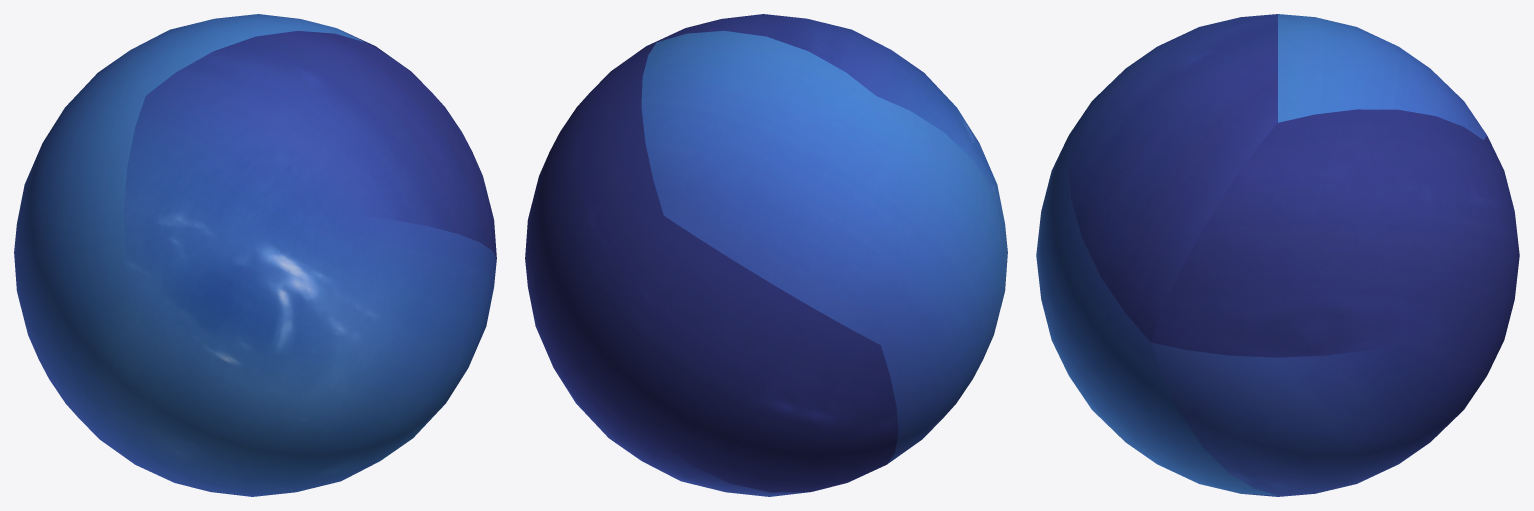
File: neptune.glb
3 renders of one model, left to right at view 1: azimuth 30°, elevation 25°; view 2: azimuth 150°, elevation 25°; view 3: azimuth 270°, elevation 25°, orthographic.
Visible parts, largest first — view 1: Sphere; view 2: Sphere; view 3: Sphere.
Part boxes in pixels (x1,y1,x2,y2): Sphere: [14, 14, 496, 496]; Sphere: [525, 14, 1007, 496]; Sphere: [1036, 14, 1519, 496].
Bounding box in the file's own units: 200 × 200 × 200.
Materials: 1 (1 with a texture image).
